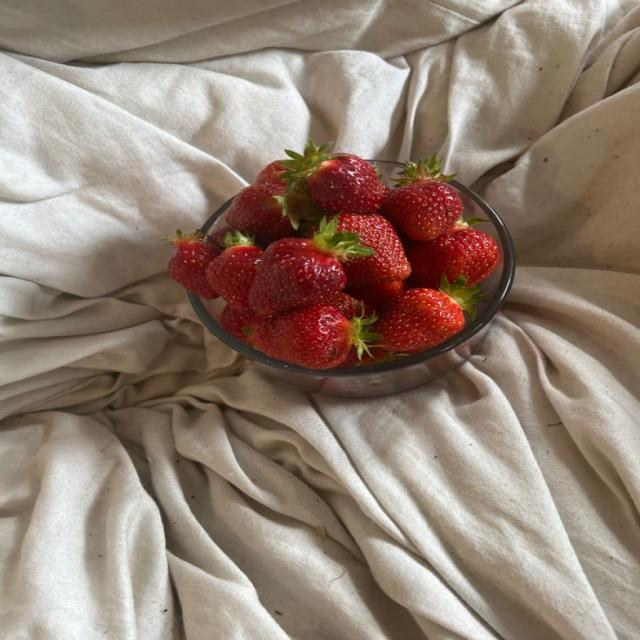strawberry: (249, 218, 373, 317), (251, 304, 379, 368), (374, 277, 482, 352), (281, 141, 386, 212), (381, 156, 463, 240), (407, 224, 499, 288), (337, 213, 411, 286), (206, 231, 263, 307), (226, 183, 293, 245), (167, 230, 220, 299), (345, 281, 406, 311), (220, 305, 257, 343), (325, 292, 373, 319), (255, 160, 287, 185), (206, 224, 234, 251)
